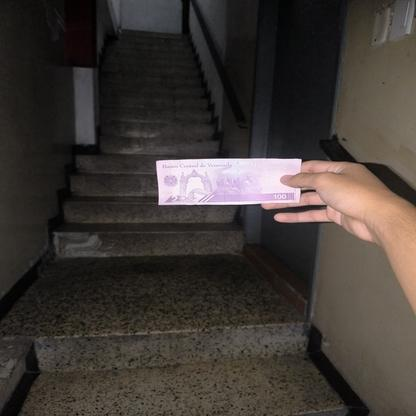one_hundred-back-vef: (155, 158, 301, 206)
